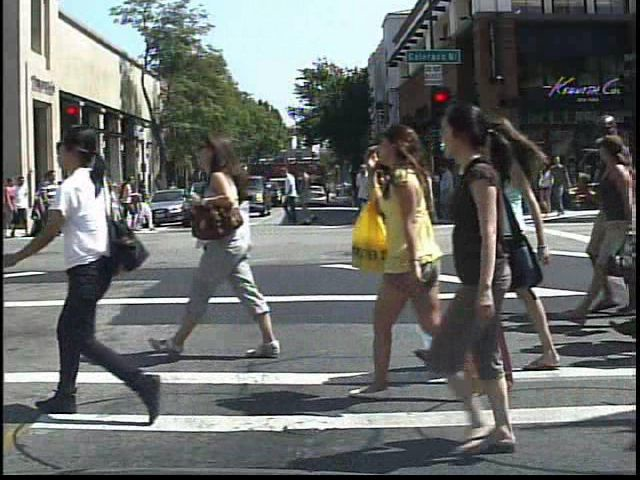person: (398, 99, 584, 465), (17, 116, 155, 434), (158, 117, 294, 363), (457, 106, 579, 378), (364, 119, 456, 399), (81, 160, 113, 238), (487, 153, 519, 225), (8, 171, 31, 242), (44, 165, 57, 233), (102, 177, 123, 215), (165, 175, 183, 212)
